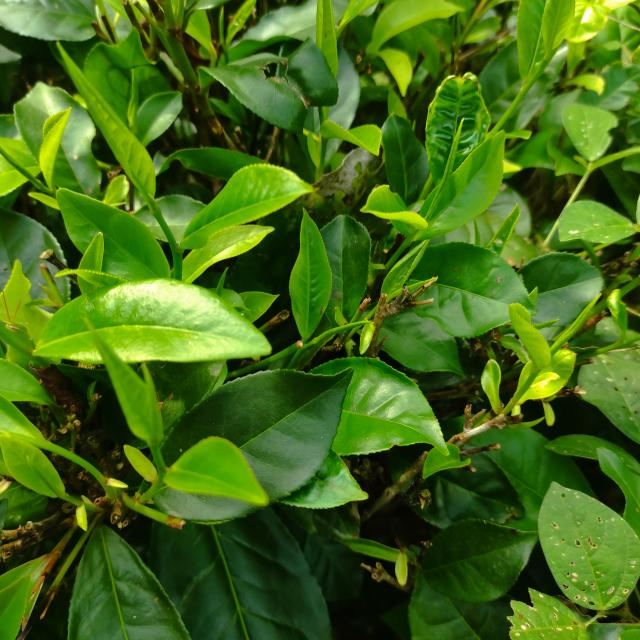unopened_leaf: (417, 111, 471, 233), (531, 285, 608, 367), (26, 452, 106, 517), (292, 312, 379, 360), (135, 352, 169, 459), (0, 143, 59, 204), (215, 2, 231, 51), (126, 63, 137, 126)
